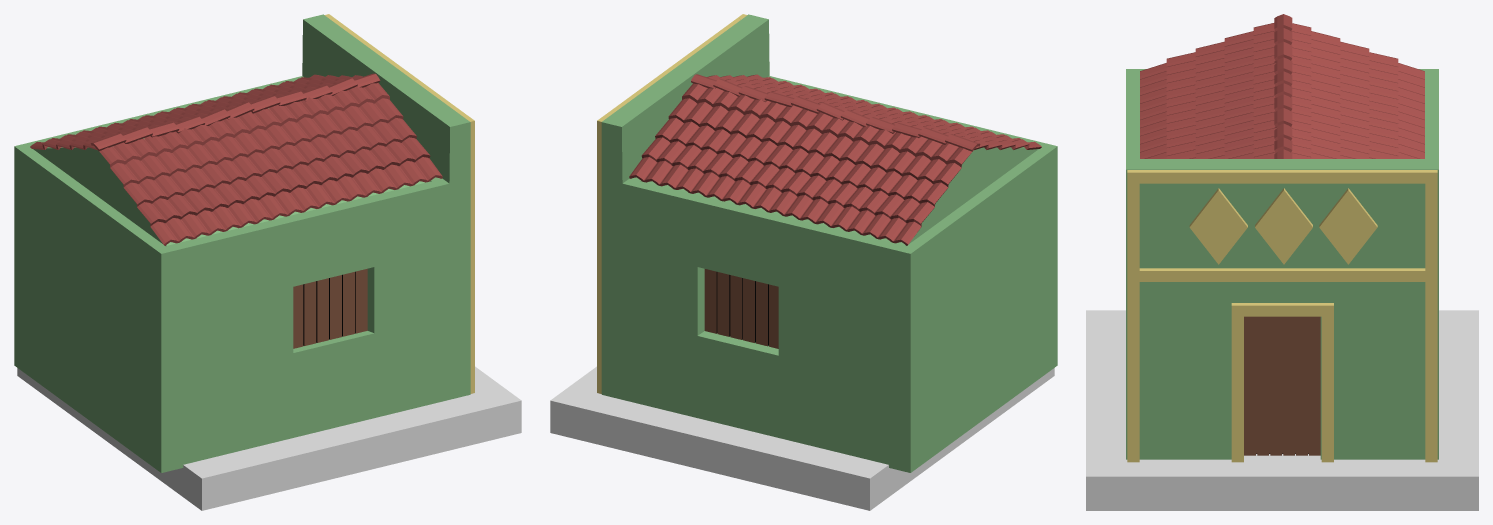
File: casa5.fbx
3 views of the same model, side by side, from view 1: azimuth 30°, elevation 25°; view 2: azimuth 150°, elevation 25°; view 3: azimuth 270°, elevation 25° (orthographic). The views are drawn at different scales.
Parts seen in each view (by area): view 1: Plane.003, Cube.010; view 2: Plane.003, Cube.010; view 3: Plane.003, Cube.010.
Part boxes in pixels (<box>): Plane.003: <box>14,14,474,472</box>; Cube.010: <box>17,366,521,510</box>; Plane.003: <box>597,14,1057,472</box>; Cube.010: <box>550,366,1054,510</box>; Plane.003: <box>1126,14,1438,462</box>; Cube.010: <box>1086,310,1478,510</box>.
Bounding box in the file's own units: 268 × 230 × 251.
